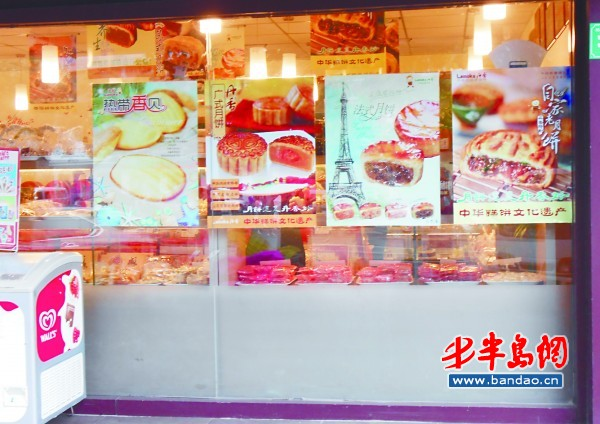bill: (451, 66, 574, 223), (325, 74, 440, 227), (205, 79, 319, 228), (93, 82, 197, 227)
